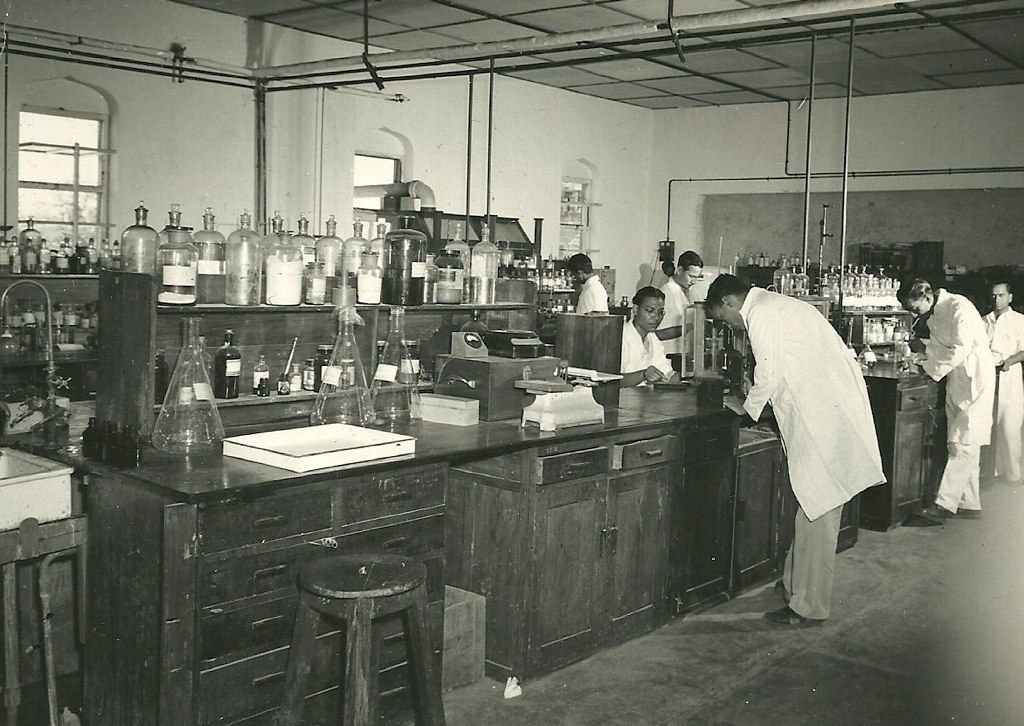Person: (895, 271, 994, 529), (652, 252, 706, 370), (565, 249, 611, 313)
